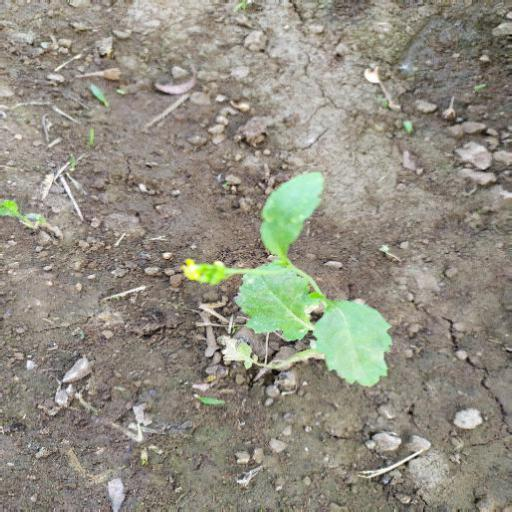weed: (175, 167, 409, 408)
